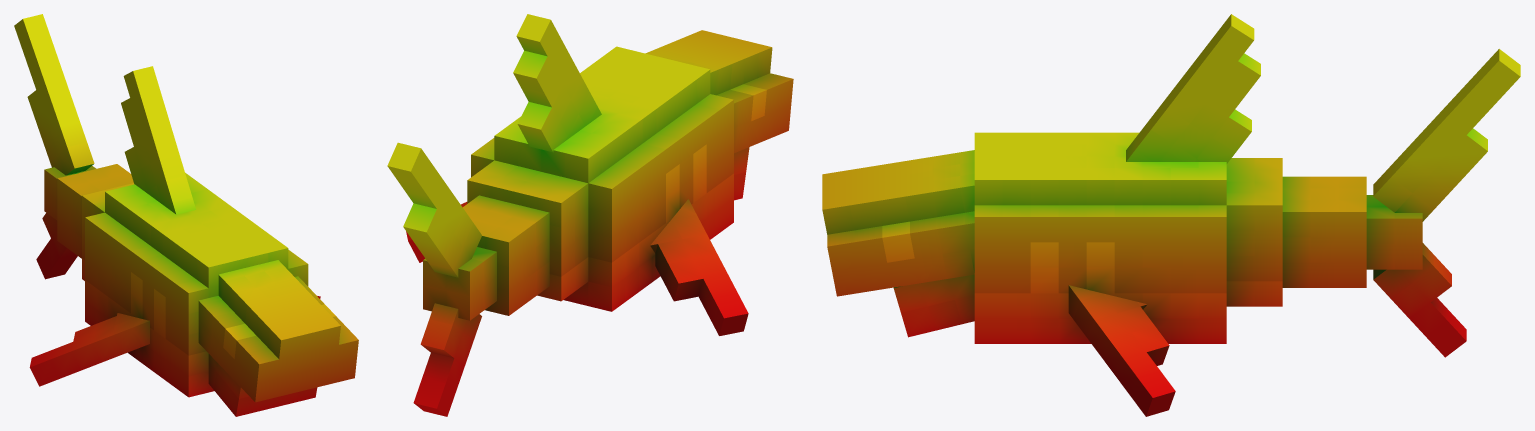
Rendered from Shark.fbx.
3 views of the same model, side by side, from view 1: azimuth 30°, elevation 25°; view 2: azimuth 150°, elevation 25°; view 3: azimuth 270°, elevation 25° (orthographic). The views are drawn at different scales.
Visible parts, largest first — view 1: Body, Snout, Dorsal, Tail_Upper, Pectoral_L, Stalk, Jaw, Tail_Lower, Tail_Root; view 2: Body, Snout, Dorsal, Stalk, Tail_Upper, Pectoral_L, Tail_Lower, Tail_Root, Jaw; view 3: Body, Snout, Dorsal, Tail_Upper, Stalk, Pectoral_R, Tail_Lower, Jaw, Tail_Root.
Boxes of the visible parts, x1,y1,x2,y2 form: Body: (82,172,308,397); Snout: (198,260,358,402); Dorsal: (121,66,195,214); Tail_Upper: (14,14,94,175); Pectoral_L: (29,313,149,386); Stalk: (57,164,133,258); Jaw: (208,354,317,416); Tail_Lower: (36,213,77,279); Tail_Root: (44,166,96,220); Body: (467,46,733,311); Snout: (645,30,793,153); Dorsal: (513,14,601,152); Stalk: (463,195,549,315); Tail_Upper: (387,142,481,277); Pectoral_L: (650,199,748,335); Tail_Lower: (413,303,481,416); Tail_Root: (423,247,496,320); Jaw: (734,147,749,200); Body: (974,132,1282,343); Snout: (822,150,974,296); Dorsal: (1126,14,1260,163); Tail_Upper: (1373,49,1520,221); Stalk: (1282,176,1366,287); Pectoral_R: (1068,285,1175,416); Tail_Lower: (1373,243,1466,357); Jaw: (893,274,974,337); Tail_Root: (1366,195,1422,269).
Size of the model in its own units: 1.46 by 1.31 by 2.49.
